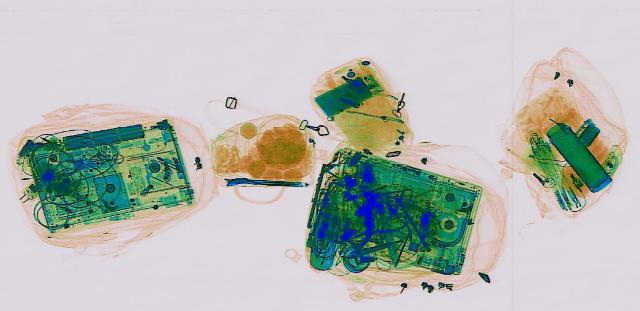Pliers: (326, 209, 412, 250)
